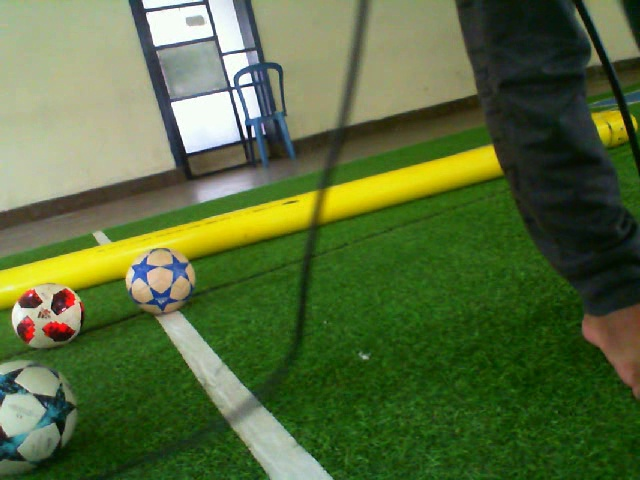ball: (1, 356, 81, 480), (9, 280, 87, 352), (123, 245, 199, 317)
